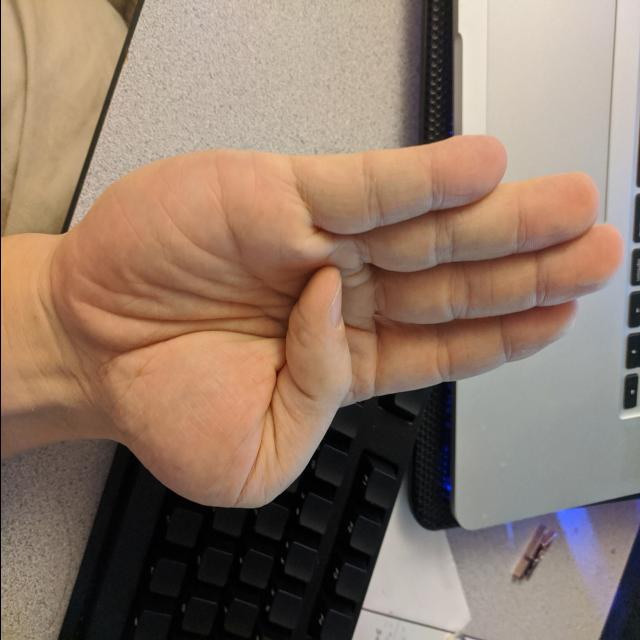B: (37, 110, 636, 530)
